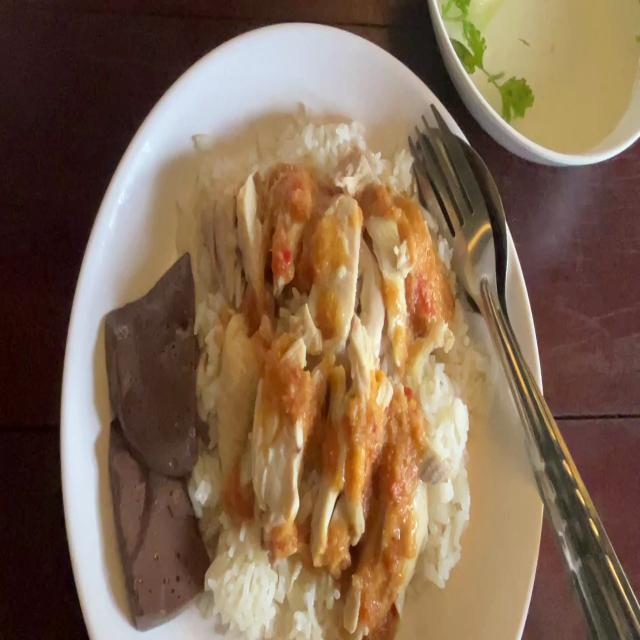01rice: (429, 344, 492, 562), (203, 534, 274, 640)
boiled_chicken: (217, 169, 449, 355), (222, 350, 408, 564)
boiled_chicken_blood_jelly: (107, 253, 206, 612), (109, 265, 197, 466), (120, 458, 200, 612)
chicken_rice: (105, 112, 489, 640)
